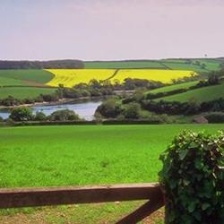neutral: (4, 2, 222, 224)
